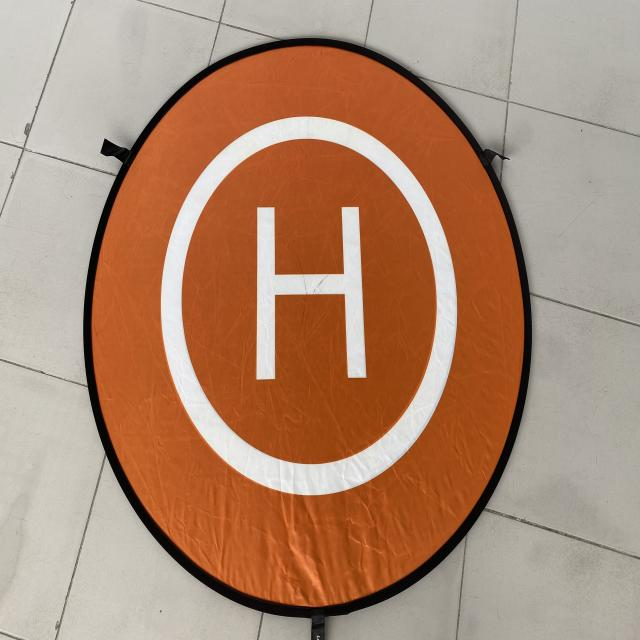helipad: (158, 114, 458, 497)
